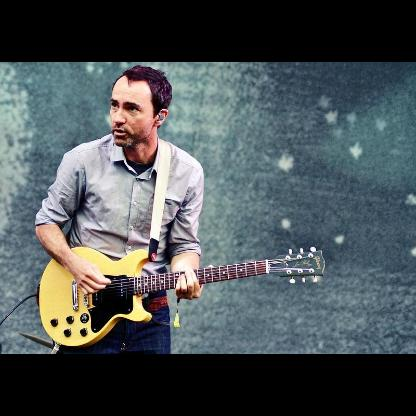guitar: (38, 247, 326, 349)
